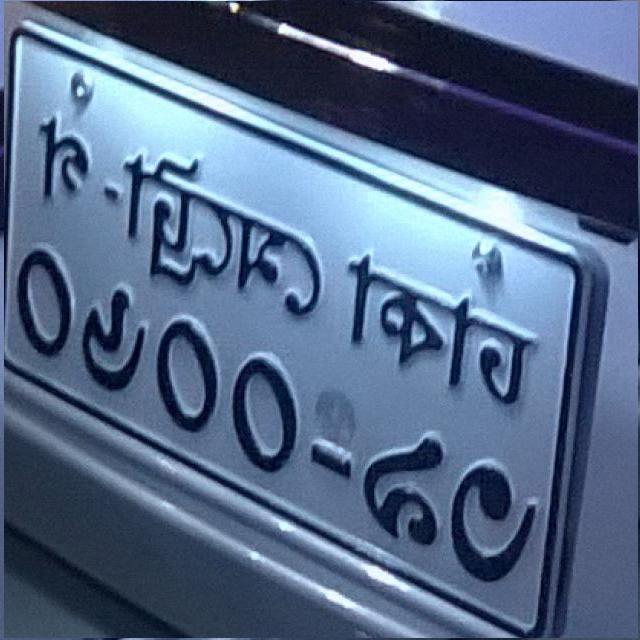numberplate: (4, 1, 638, 638)
